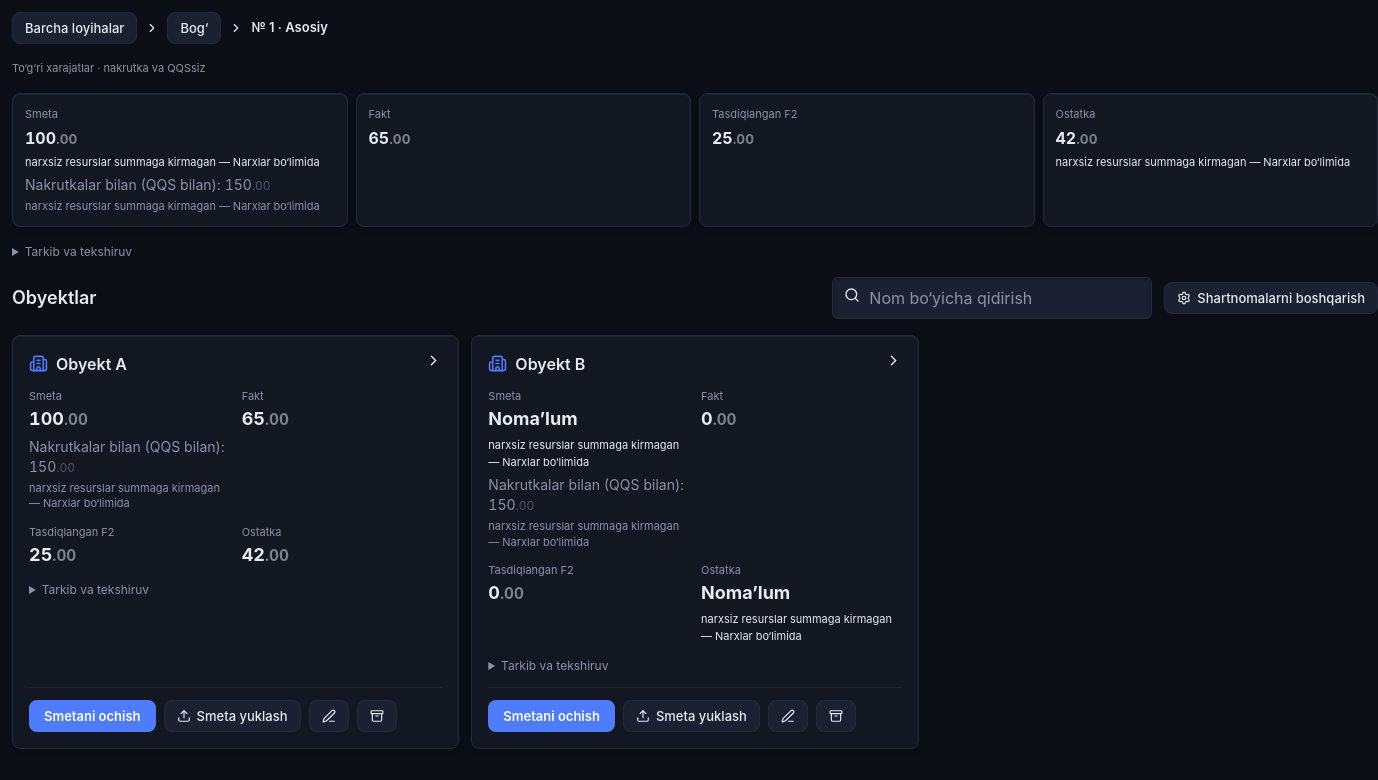
Test: project → contract → object navigator › filters object cards inside the selected contract without changing totals
Type "Obyekt B" into the field named "Navigator qidiruvi" at (992,298), box [832,277,1152,319]
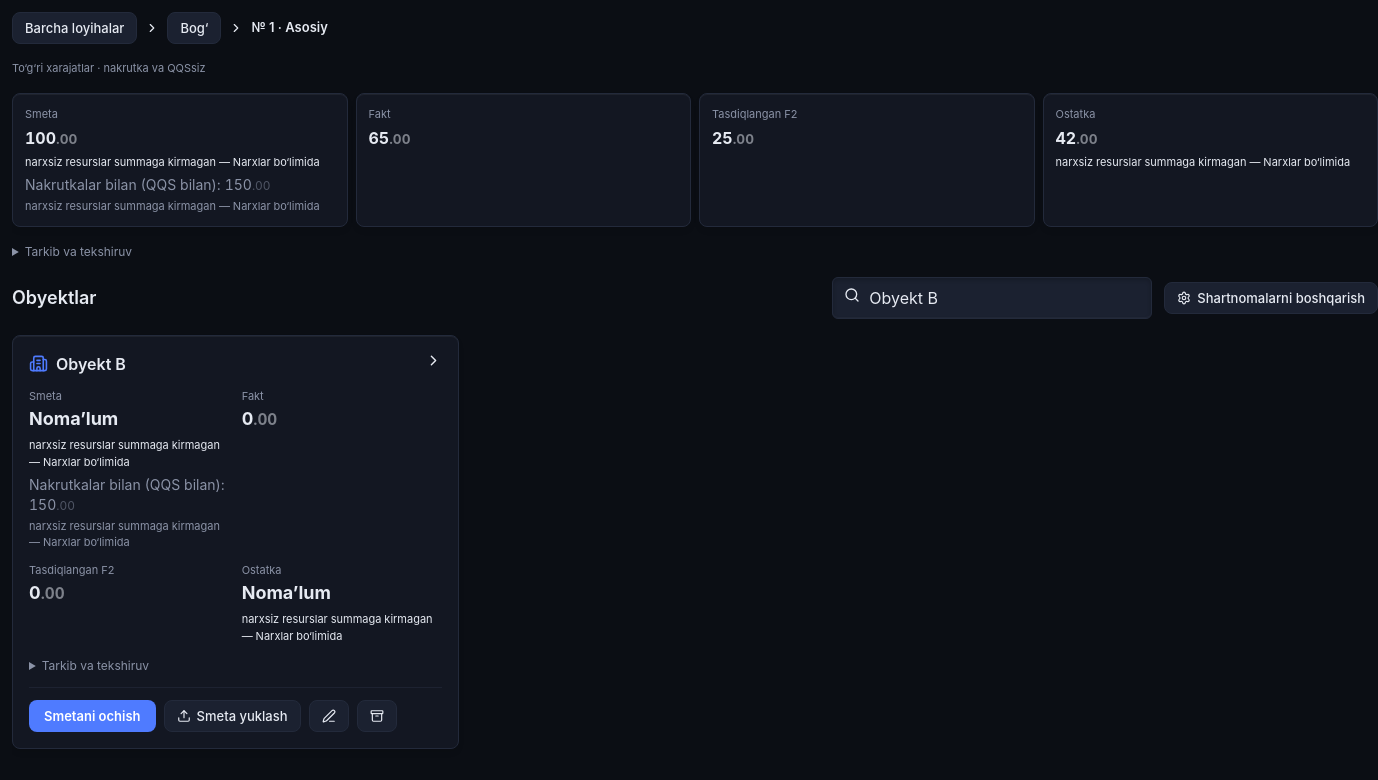
Expected: the text "Obyekt B" is shown, [56,352,126,376]
Expected: the button "Obyekt A" is gone
